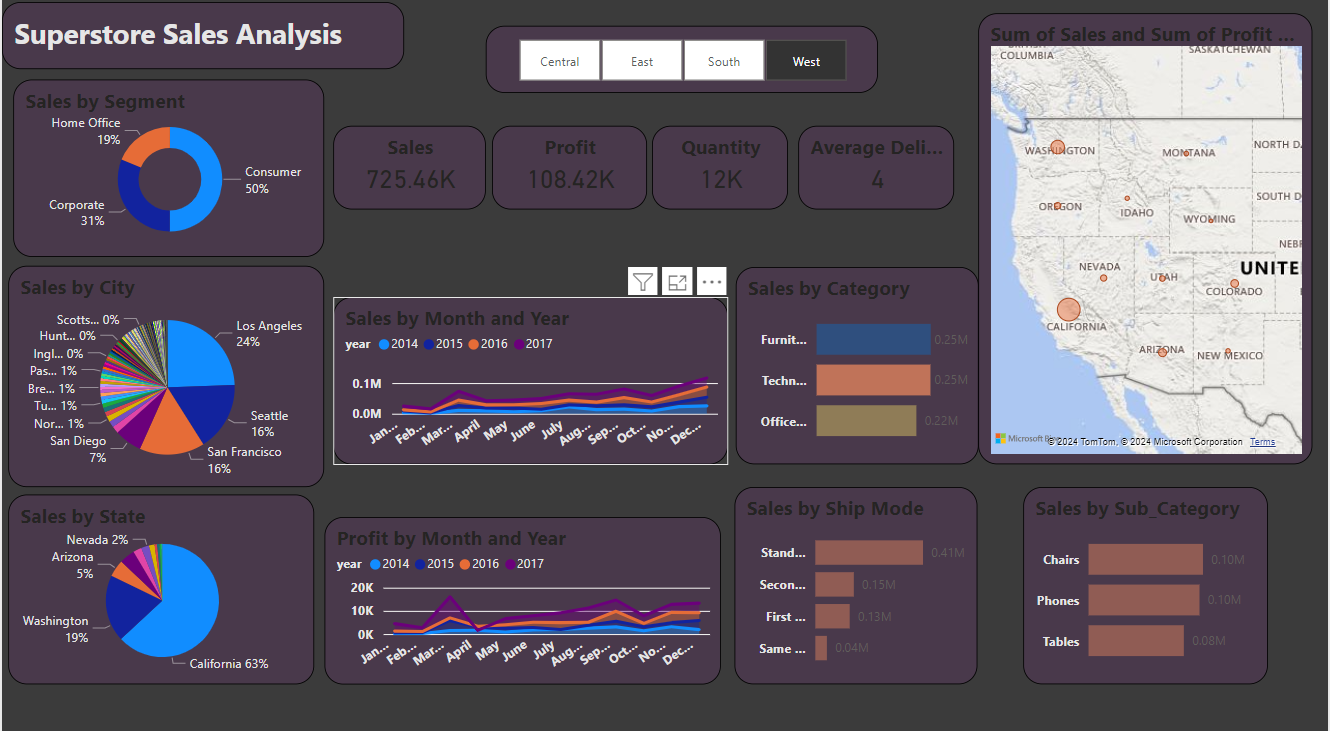

This screenshot's page, from the dashboard's own definition file:
{"tool":"powerbi","page":{"name":"Page 1","canvas":[1280,720],"ordinal":0},"visuals":[{"type":"clusteredBarChart","title":"Sales by Category","fields":{"Y":["Sum(superstore.Sales)"],"Category":["superstore.Category"]},"box":[708.3,265.5,234.5,190.5],"z":0},{"type":"barChart","title":"Sales by Sub_Category","fields":{"Category":["superstore.Sub-Category"],"Y":["Sum(superstore.Sales)"]},"box":[985.7,477.4,235.7,190.5],"z":1000},{"type":"clusteredBarChart","title":"Sales by Ship Mode","fields":{"Y":["Sum(superstore.Sales)"],"Category":["superstore.Ship Mode"]},"box":[707.1,477.4,234.5,190.5],"z":2000},{"type":"stackedAreaChart","title":"Sales by Month and Year","fields":{"Y":["Sum(superstore.Sales)"],"Category":["superstore.Order Date.Variation.Date Hierarchy.Month"],"Series":["superstore.Order Date.Variation.Date Hierarchy.Year"]},"box":[319.6,294.3,381.1,161.6],"z":3000},{"type":"stackedAreaChart","title":"Profit by Month and Year","fields":{"Category":["superstore.Order Date.Variation.Date Hierarchy.Month"],"Series":["superstore.Order Date.Variation.Date Hierarchy.Year"],"Y":["Sum(superstore.Profit)"]},"box":[310.7,506,382.1,161.9],"z":4000},{"type":"map","fields":{"Category":["superstore.State"],"Size":["Sum(superstore.Sales)"]},"box":[941.9,20.5,322,435.4],"z":5000},{"type":"donutChart","title":"Sales by Segment","fields":{"Category":["superstore.Segment"],"Y":["Sum(superstore.Sales)"]},"box":[10.9,84.4,300.3,171.3],"z":6000},{"type":"pieChart","title":"Sales by City","fields":{"Y":["Sum(superstore.Sales)"],"Category":["superstore.City"]},"box":[6,264.1,305.1,213.5],"z":7000},{"type":"slicer","fields":{"Values":["superstore.Region"]},"box":[466.7,32.6,378.7,65.1],"z":8000},{"type":"textbox","box":[0,9.6,388.3,65.1],"z":8001},{"type":"card","title":"Sales","fields":{"Values":["Sum(superstore.Sales)"]},"box":[319.6,129,147.1,80.8],"z":8002},{"type":"card","title":"Profit","fields":{"Values":["Sum(superstore.Profit)"]},"box":[472.8,129,149.5,80.8],"z":8003},{"type":"card","title":"Quantity","fields":{"Values":["Sum(superstore.Quantity)"]},"box":[627.1,129,131.5,80.8],"z":8004},{"type":"card","title":"Average Delivery","fields":{"Values":["Avg(superstore.AvgDelivery)"]},"box":[768.2,129,150.8,80.8],"z":8005},{"type":"pieChart","title":"Sales by State","fields":{"Y":["Sum(superstore.Sales)"],"Category":["superstore.State"]},"box":[6,484.8,295.5,183.3],"z":8006}]}

Visuals, with their boxes in screenshot pixels (x1, y1, x2, y2), scaled from the page's 1280x720 canvas onto the 1330x731 screenshot:
"Sales by Category" clusteredBarChart: 736:270:980:463
"Sales by Sub_Category" barChart: 1024:485:1269:678
"Sales by Ship Mode" clusteredBarChart: 735:485:978:678
"Sales by Month and Year" stackedAreaChart: 332:299:728:463
"Profit by Month and Year" stackedAreaChart: 323:514:720:678
map - superstore.State x Sum(superstore.Sales): 979:21:1313:463
"Sales by Segment" donutChart: 11:86:323:260
"Sales by City" pieChart: 6:268:323:485
slicer - superstore.Region: 485:33:878:99
textbox: 0:10:403:76
"Sales" card: 332:131:485:213
"Profit" card: 491:131:647:213
"Quantity" card: 652:131:788:213
"Average Delivery" card: 798:131:955:213
"Sales by State" pieChart: 6:492:313:678
